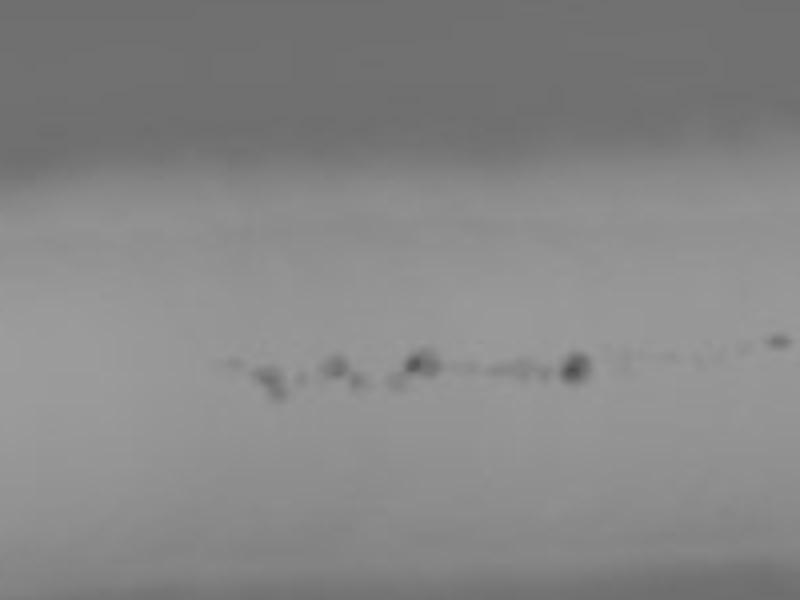defect: (404, 345, 439, 376), (558, 349, 589, 383), (315, 350, 346, 377), (263, 382, 290, 406), (249, 366, 284, 383), (509, 357, 533, 380), (763, 330, 791, 349), (482, 361, 512, 378), (385, 371, 405, 393), (223, 353, 246, 372), (291, 371, 308, 392), (534, 363, 554, 379), (348, 371, 365, 389)
